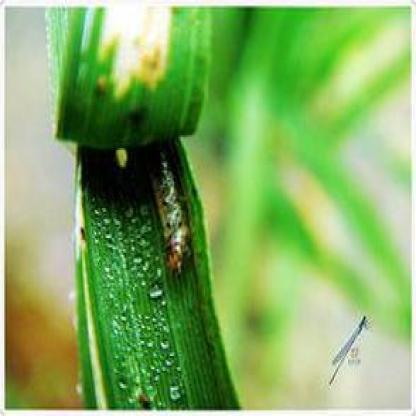leaf-folder: (130, 133, 211, 276)
